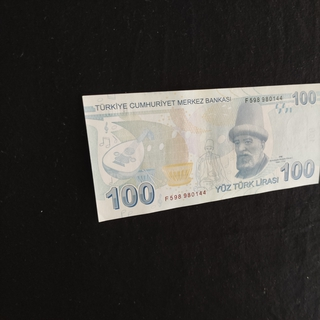100TLBack: (82, 83, 320, 222)
